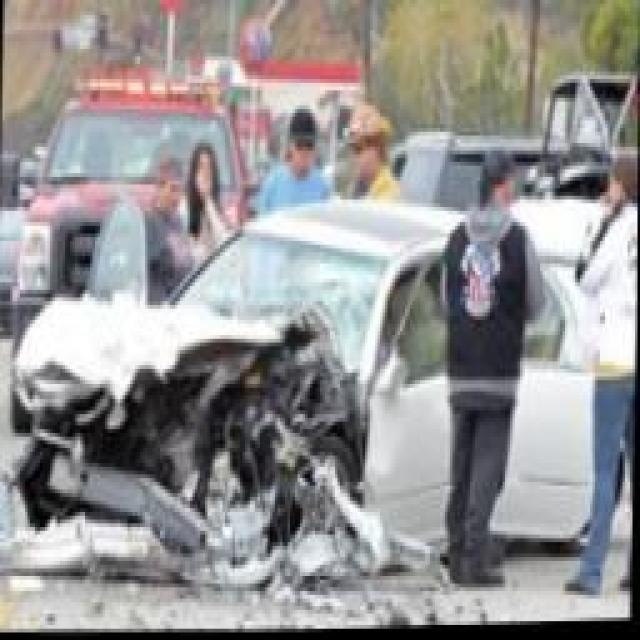Bonnet: (5, 285, 366, 446)
Bumper: (0, 417, 285, 571)
Door: (367, 390, 438, 537)
Light: (205, 410, 291, 449)
Windshield: (188, 238, 379, 355)
